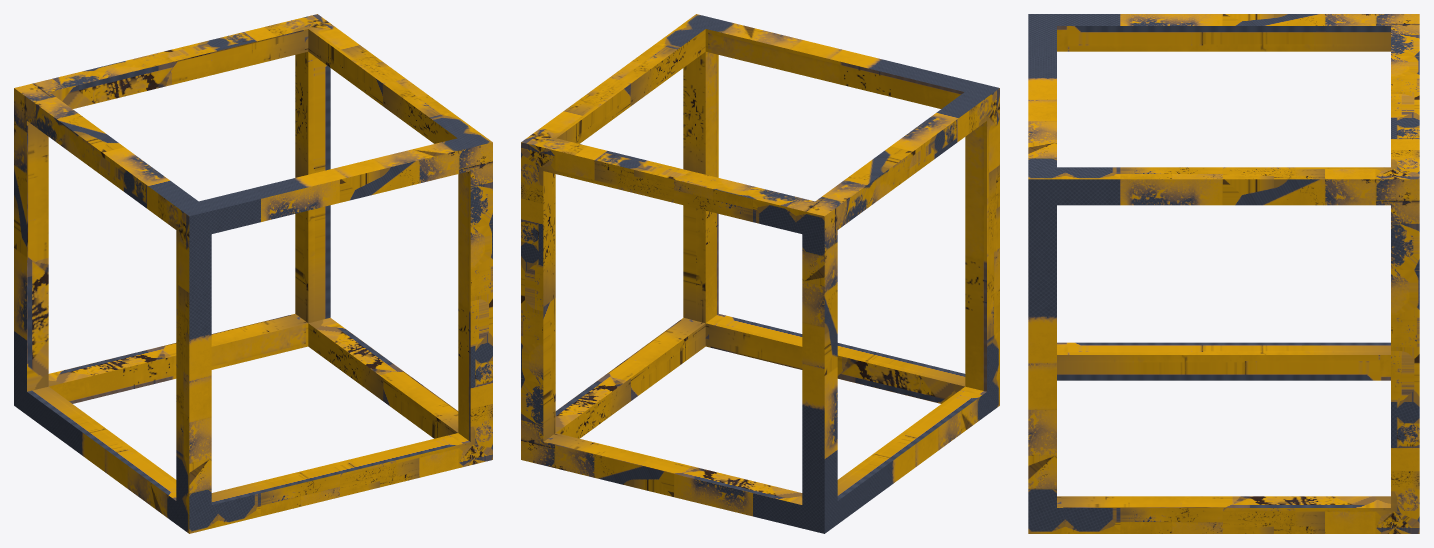
Rendered from mesh_placeholder_hollow4mx4m.fbx.
3 views of the same model, side by side, from view 1: azimuth 30°, elevation 25°; view 2: azimuth 150°, elevation 25°; view 3: azimuth 270°, elevation 25° (orthographic). The views are drawn at different scales.
Parts seen in each view (by area): view 1: Mesh_placeholder_hollow4mx4m; view 2: Mesh_placeholder_hollow4mx4m; view 3: Mesh_placeholder_hollow4mx4m.
Boxes of the visible parts, x1,y1,x2,y2 form: Mesh_placeholder_hollow4mx4m: [14, 14, 492, 533]; Mesh_placeholder_hollow4mx4m: [521, 14, 999, 533]; Mesh_placeholder_hollow4mx4m: [1028, 14, 1419, 533].
Bounding box in the file's own units: 4 × 4 × 4.
